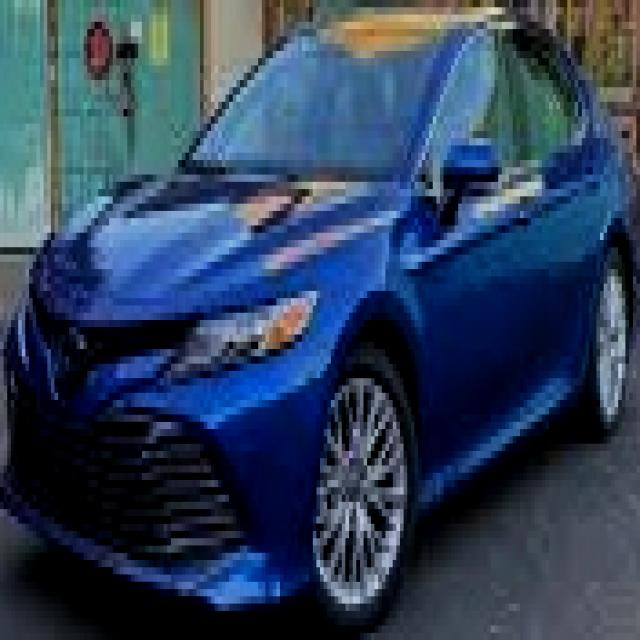blue: (7, 7, 640, 640)
